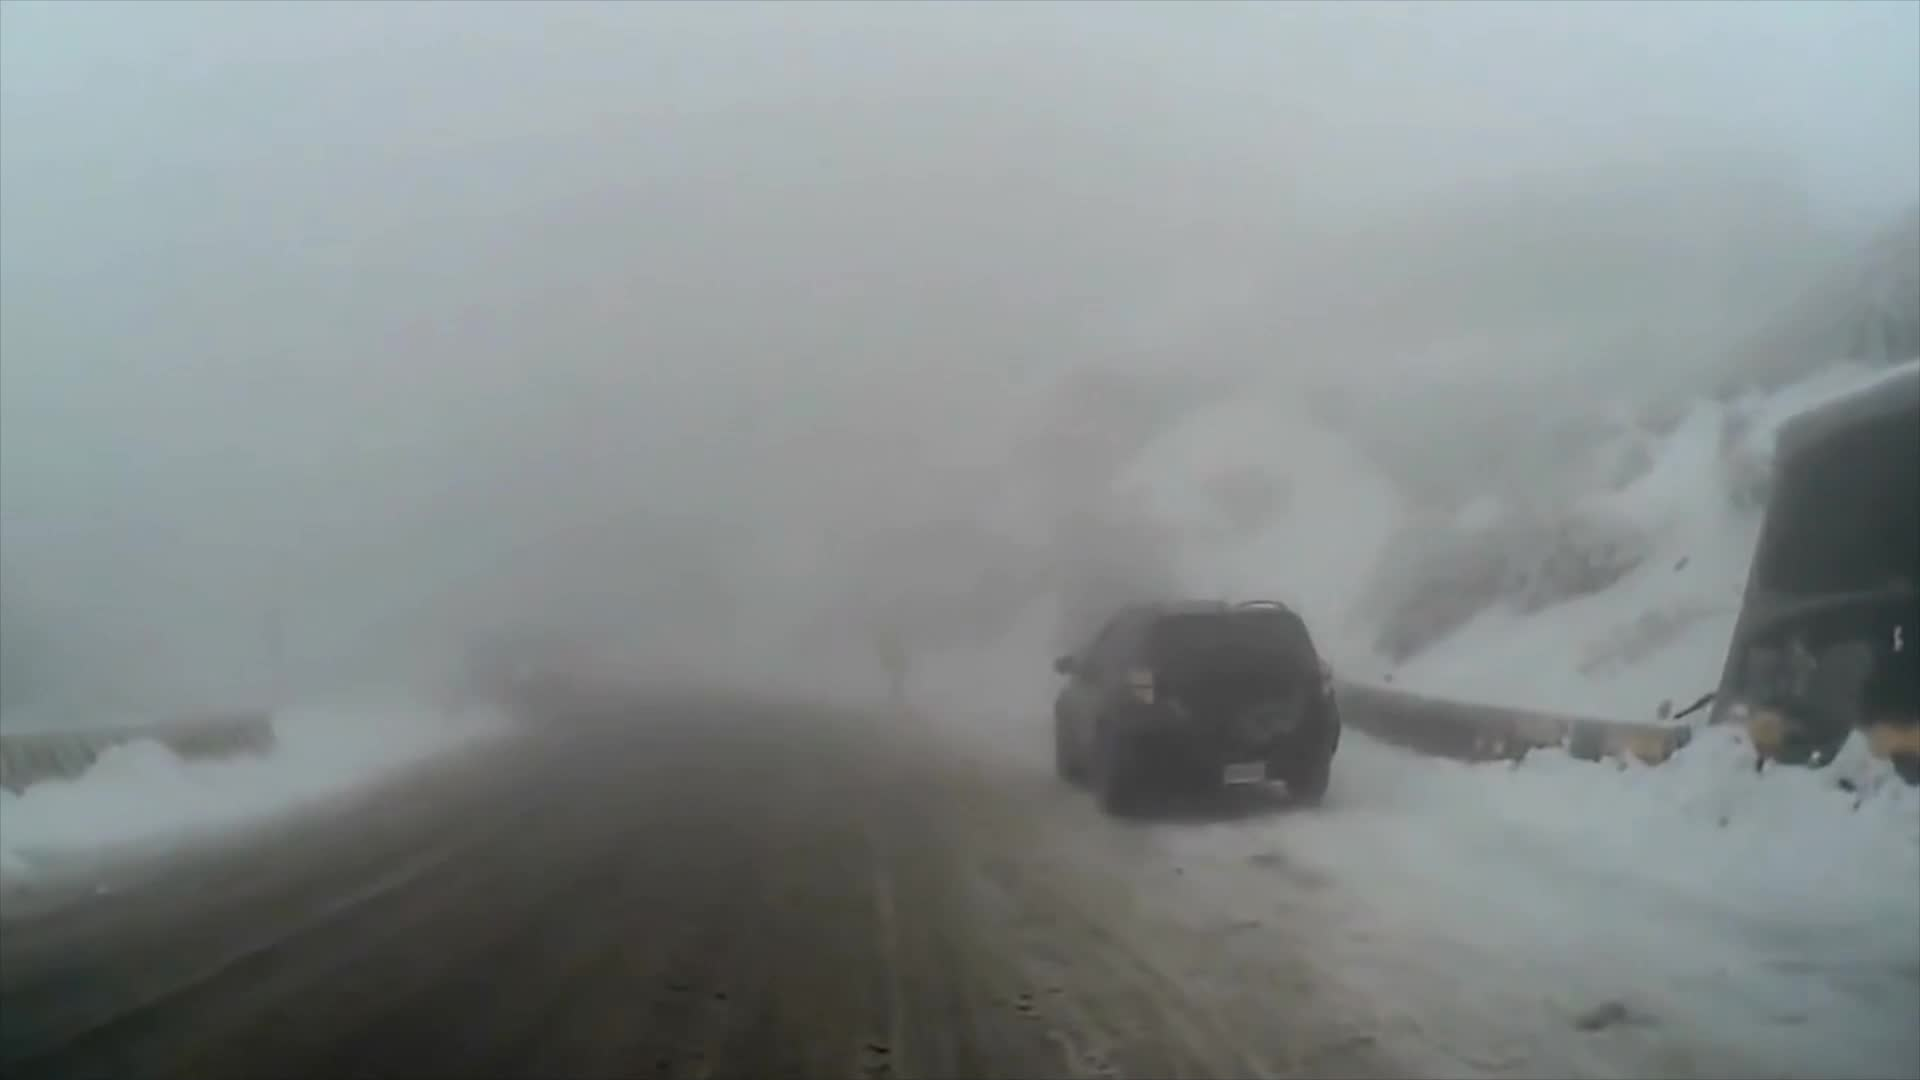vehicle: (1051, 596, 1345, 822)
